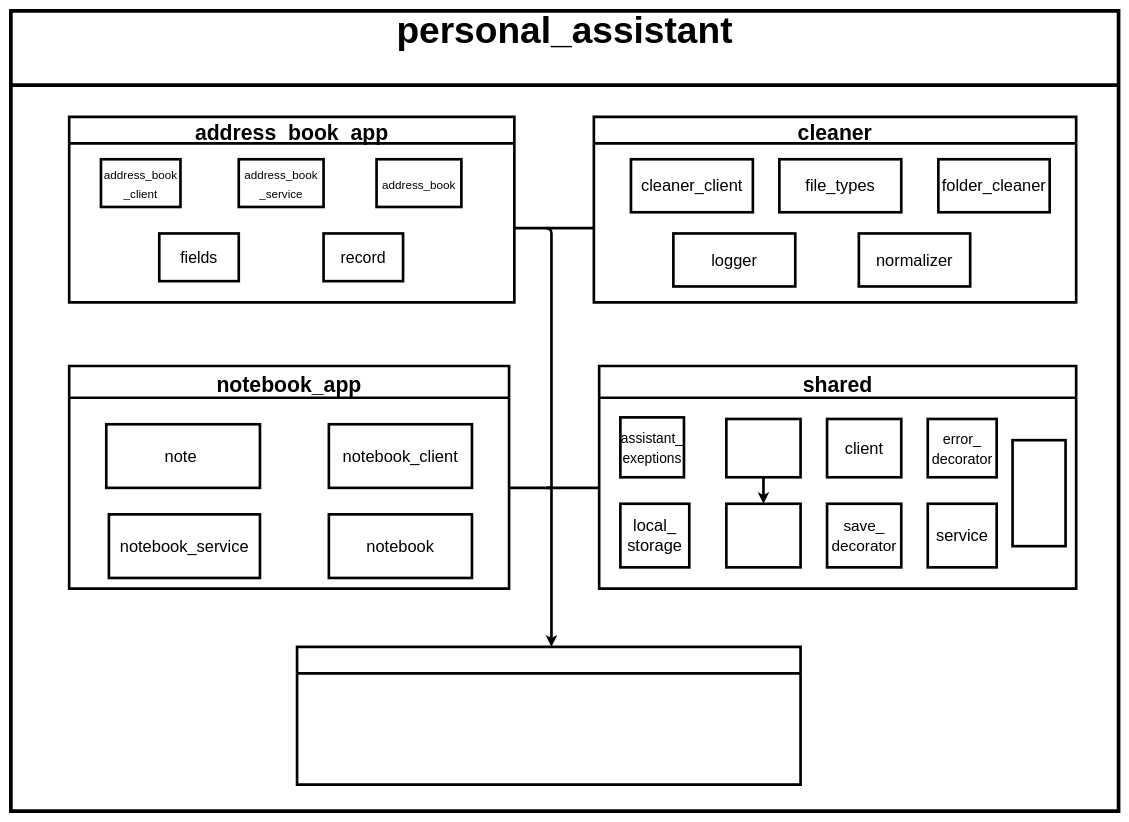
This 1129x822 diagram has some shape labels left out. Each missing label, with the centre of its shape:
"cli_ command" belongs at [763,447].
"main" belongs at [548,715].
"parser" belongs at [763,535].
"status" belongs at [1039,493].
